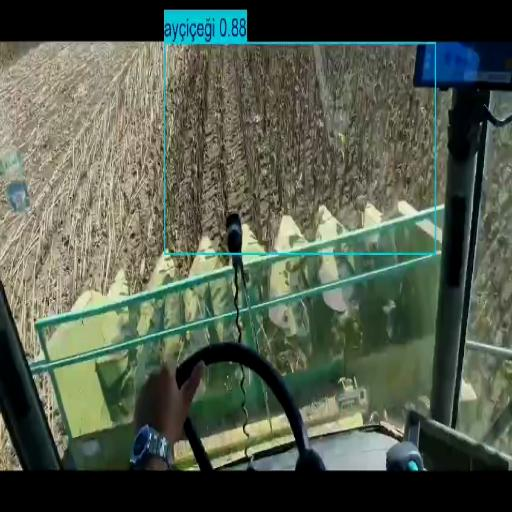ayc: (167, 47, 432, 210)
